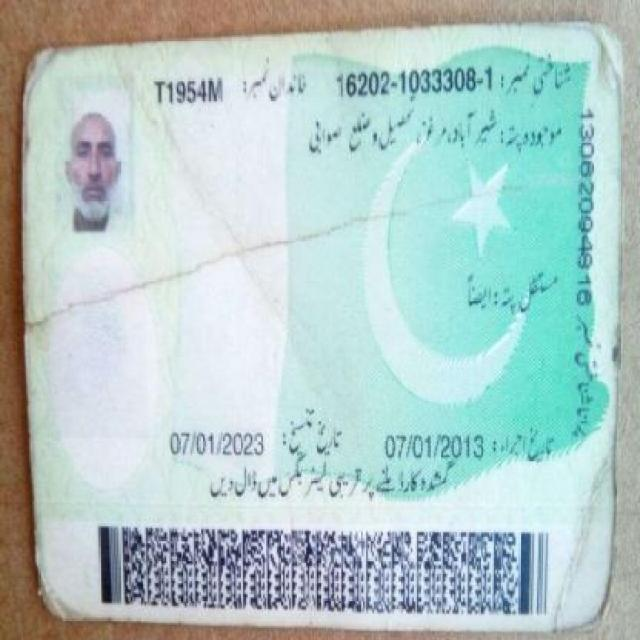Back: (9, 36, 622, 630)
